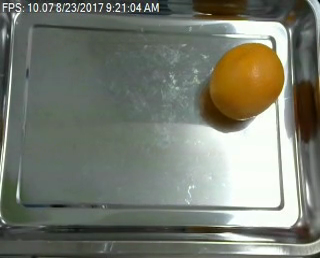Orange: (209, 42, 286, 119)
